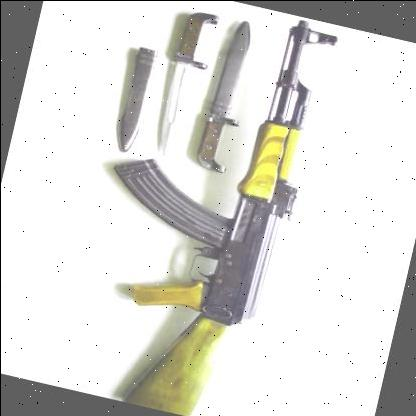rifle: (62, 0, 361, 416)
